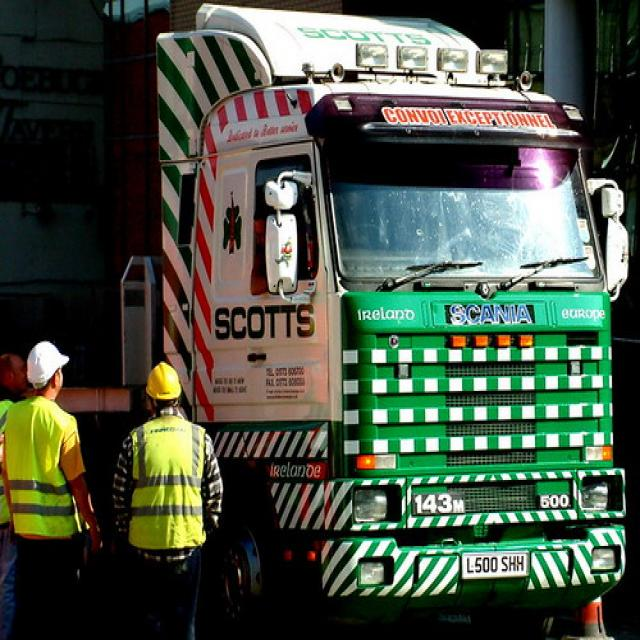Reflective-Jacket: (0, 396, 104, 554), (118, 416, 224, 562)
Safety-Helmet: (19, 332, 74, 394), (138, 354, 190, 410), (0, 344, 35, 398)
